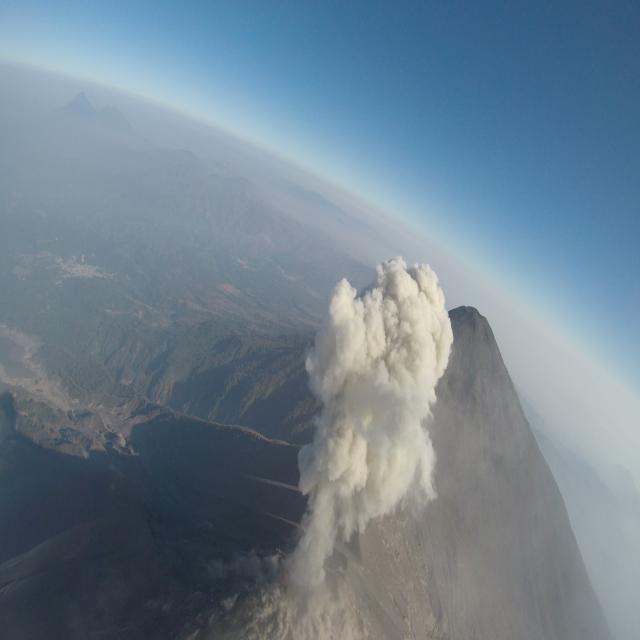Plume: (303, 245, 457, 565)
Summit: (195, 515, 409, 640)
